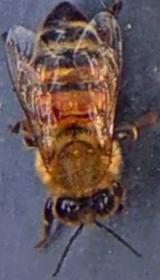varroa_mite: (29, 93, 69, 134)
